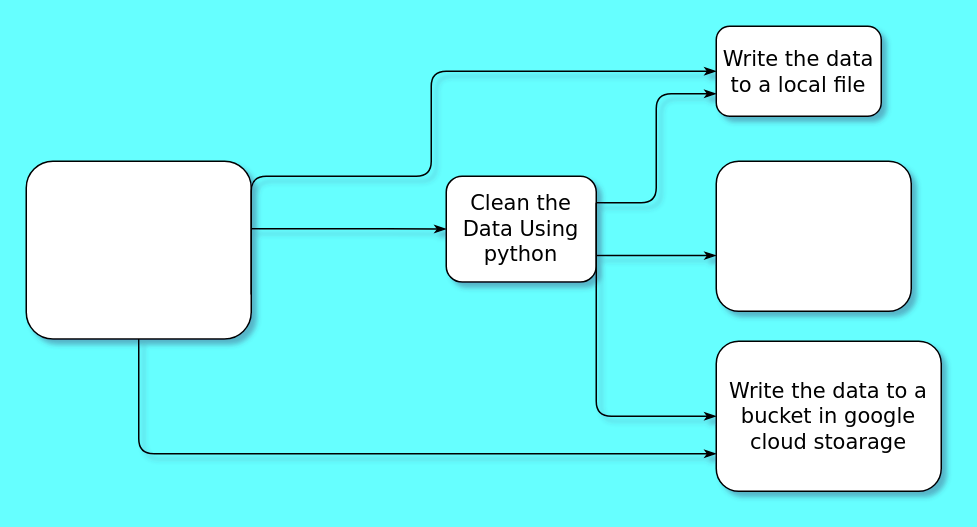
The diagram is 977 pixels wide and 527 high, and some of its shapes have lost their labels. The centre of each missing label's shape, as x and y in pixels:
"Scrape the three websites using selenium and BeautifulSoup" goes at pixel 138 249.
"Write the data to a postgres database stored in a docker image" goes at pixel 813 235.
